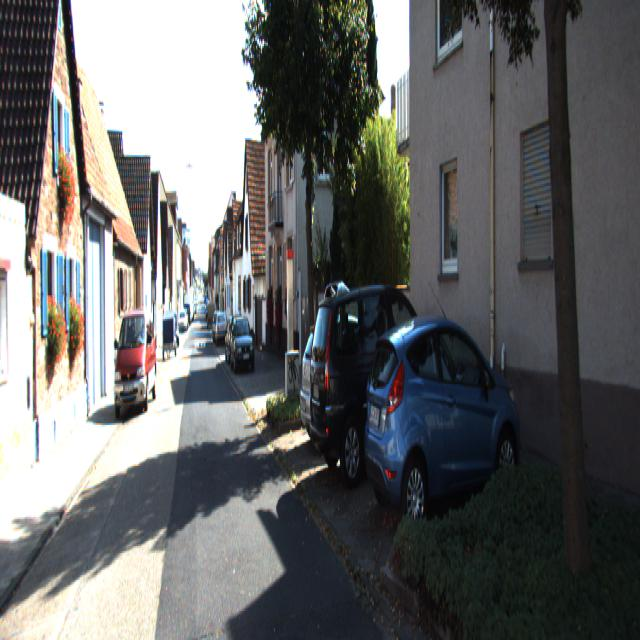Car: (360, 318, 526, 544), (304, 280, 458, 495), (302, 318, 413, 455), (110, 311, 158, 418), (230, 316, 256, 373)
